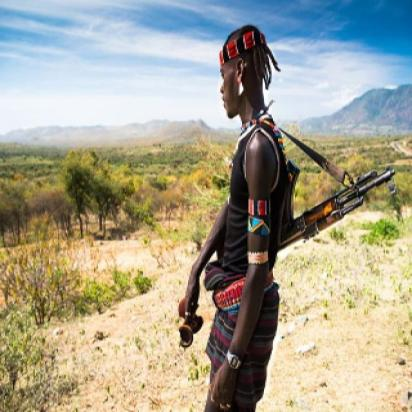Gun: (280, 162, 400, 250)
